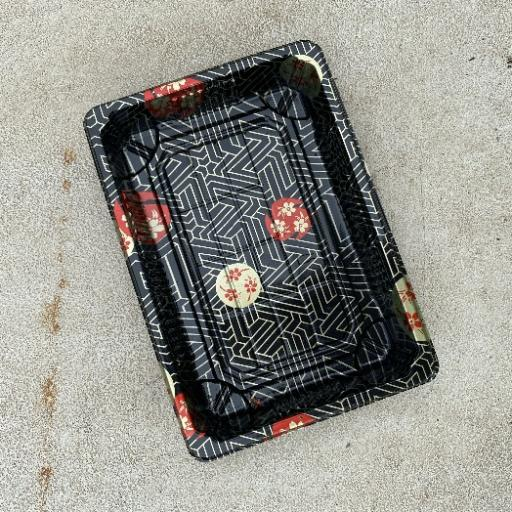Plastic: (81, 39, 440, 461)
